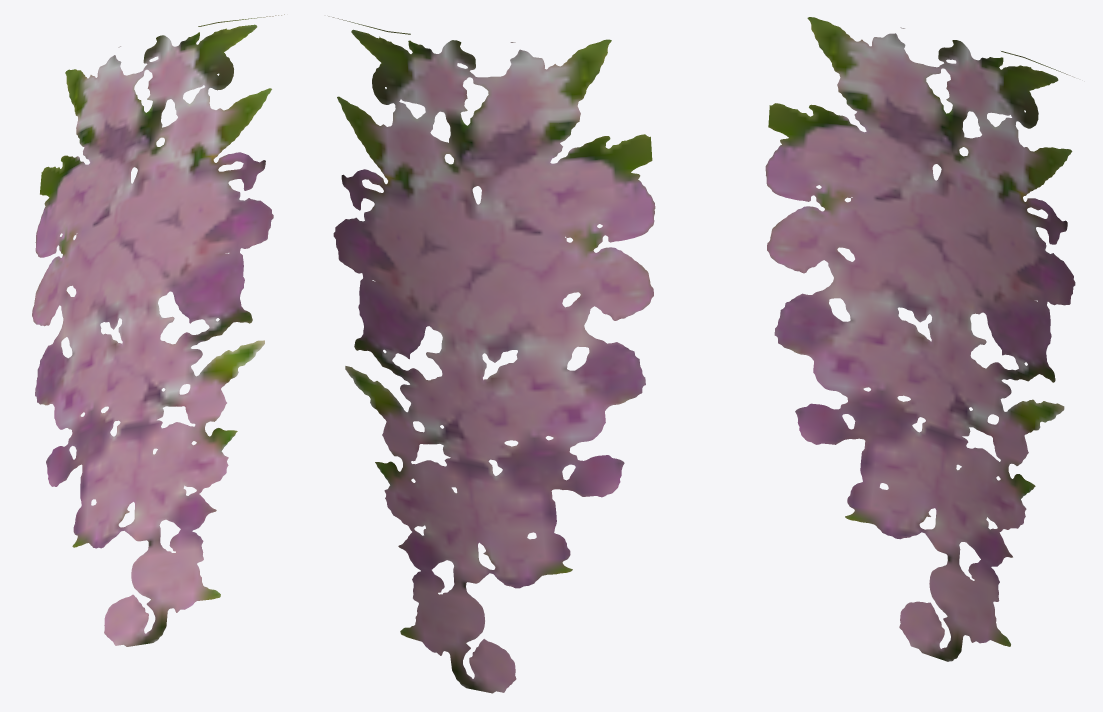
Rendered from liemo_plant_10 (24).fbx.
The picture shows the model from 3 angles, left to right: view 1: azimuth 30°, elevation 25°; view 2: azimuth 150°, elevation 25°; view 3: azimuth 330°, elevation 25°; orthographic projection. The views are drawn at different scales.
Visible parts, largest first — view 1: liemo_plant_10 (24); view 2: liemo_plant_10 (24); view 3: liemo_plant_10 (24).
Part boxes in pixels (<box>): liemo_plant_10 (24): <box>32,14,284,646</box>; liemo_plant_10 (24): <box>328,16,655,693</box>; liemo_plant_10 (24): <box>765,17,1075,661</box>.
Size of the model in its own units: 0.9475 by 1.8 by 0.2488.
